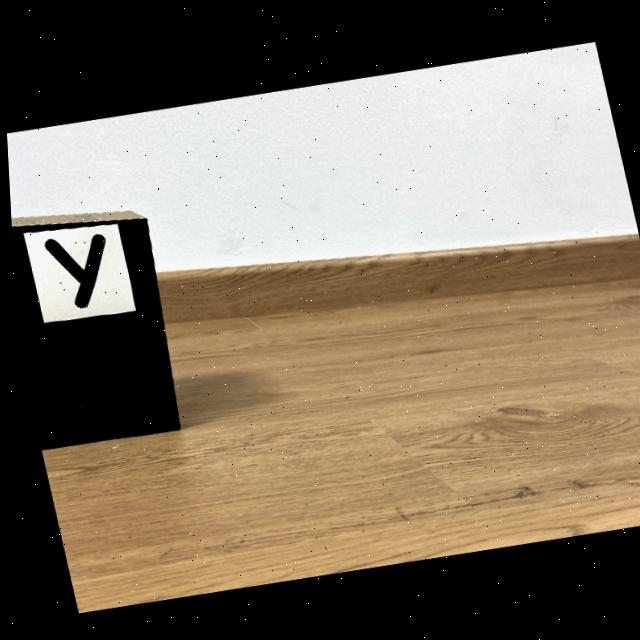Y: (42, 233, 103, 307)
